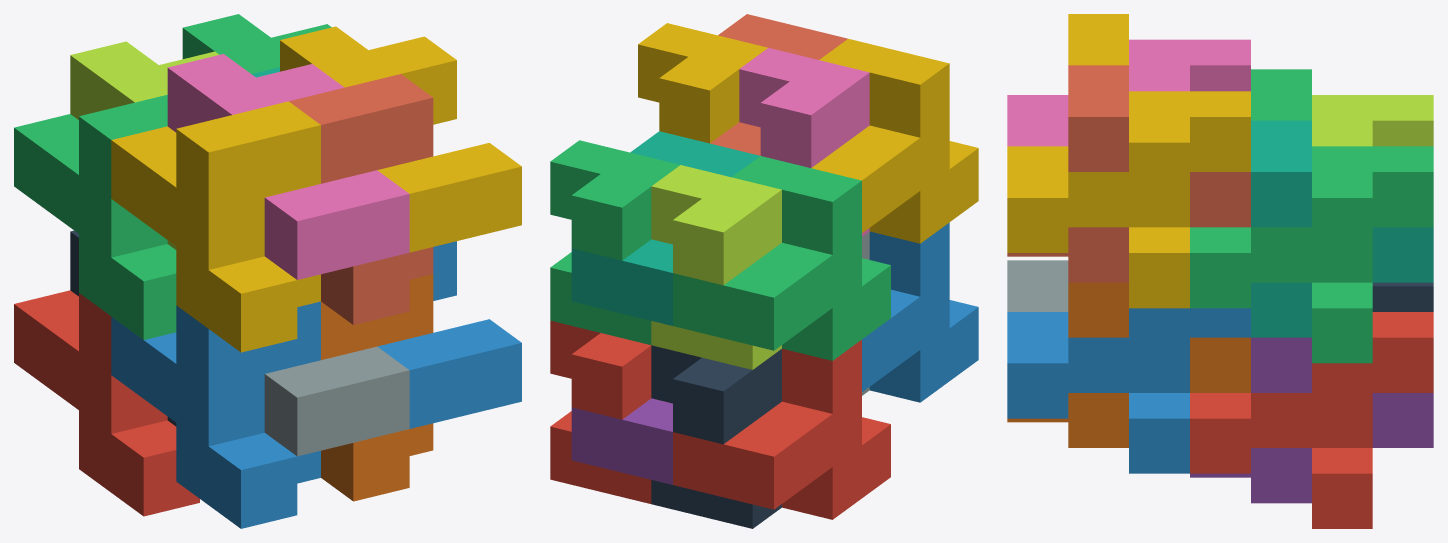
The model's file is tiling.obj.
3 views of the same model, side by side, from view 1: azimuth 30°, elevation 25°; view 2: azimuth 150°, elevation 25°; view 3: azimuth 270°, elevation 25° (orthographic). The views are drawn at different scales.
Visible parts, largest first — view 1: copy_1_domain_4, copy_1_domain_2, copy_1_domain_3, copy_2_domain_4, copy_1_domain_1, copy_2_domain_8, copy_1_domain_8, copy_2_domain_2, copy_2_domain_6, copy_1_domain_6, copy_2_domain_3, copy_2_domain_7 (+1 smaller); view 2: copy_1_domain_3, copy_1_domain_1, copy_1_domain_4, copy_2_domain_3, copy_1_domain_2, copy_2_domain_7, copy_2_domain_4, copy_2_domain_1, copy_2_domain_5, copy_2_domain_8, copy_1_domain_7, copy_1_domain_5 (+1 smaller); view 3: copy_2_domain_8, copy_2_domain_7, copy_2_domain_5, copy_2_domain_6, copy_1_domain_8, copy_1_domain_7, copy_1_domain_5, copy_1_domain_6, copy_2_domain_4, copy_2_domain_3, copy_2_domain_2, copy_1_domain_3 (+2 smaller).
Part boxes in pixels (bbox=[...]): copy_1_domain_4: bbox=[111, 101, 320, 352]; copy_1_domain_2: bbox=[111, 301, 320, 528]; copy_1_domain_3: bbox=[14, 94, 176, 339]; copy_2_domain_4: bbox=[167, 54, 409, 279]; copy_1_domain_1: bbox=[14, 290, 199, 516]; copy_2_domain_8: bbox=[280, 26, 521, 252]; copy_1_domain_8: bbox=[289, 74, 433, 324]; copy_2_domain_2: bbox=[264, 346, 409, 456]; copy_2_domain_6: bbox=[377, 241, 521, 428]; copy_1_domain_6: bbox=[321, 274, 433, 501]; copy_2_domain_3: bbox=[70, 41, 219, 249]; copy_2_domain_7: bbox=[182, 14, 331, 73]; copy_1_domain_3: bbox=[673, 156, 890, 360]; copy_1_domain_1: bbox=[673, 340, 890, 519]; copy_1_domain_4: bbox=[811, 38, 978, 243]; copy_2_domain_3: bbox=[651, 165, 781, 369]; copy_1_domain_2: bbox=[862, 222, 978, 402]; copy_2_domain_7: bbox=[550, 140, 679, 344]; copy_2_domain_4: bbox=[739, 48, 869, 236]; copy_2_domain_1: bbox=[651, 345, 781, 528]; copy_2_domain_5: bbox=[550, 320, 651, 503]; copy_2_domain_8: bbox=[638, 23, 767, 143]; copy_1_domain_7: bbox=[571, 131, 759, 325]; copy_1_domain_5: bbox=[571, 398, 672, 484]; copy_2_domain_8: bbox=[1007, 91, 1250, 308]; copy_2_domain_7: bbox=[1190, 146, 1433, 363]; copy_2_domain_5: bbox=[1190, 312, 1433, 528]; copy_2_domain_6: bbox=[1007, 308, 1250, 473]; copy_1_domain_8: bbox=[1007, 65, 1250, 282]; copy_1_domain_7: bbox=[1251, 120, 1433, 337]; copy_1_domain_5: bbox=[1190, 337, 1433, 503]; copy_1_domain_6: bbox=[1007, 282, 1250, 447]; copy_2_domain_4: bbox=[1007, 39, 1250, 146]; copy_2_domain_3: bbox=[1312, 95, 1433, 146]; copy_2_domain_2: bbox=[1007, 260, 1068, 311]; copy_1_domain_3: bbox=[1251, 69, 1311, 120].
Size of the model in its own units: 5 by 7 by 7.
